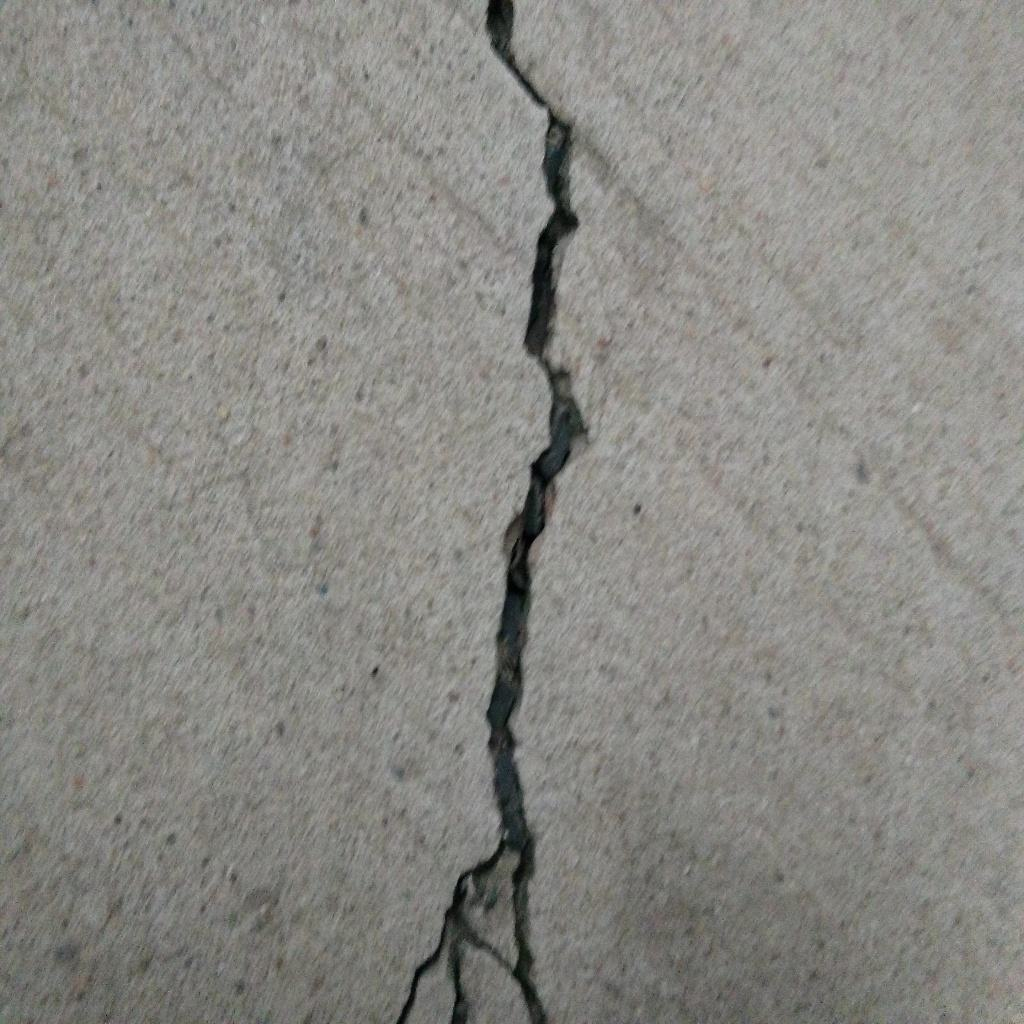Crack: (397, 1, 592, 1024)
